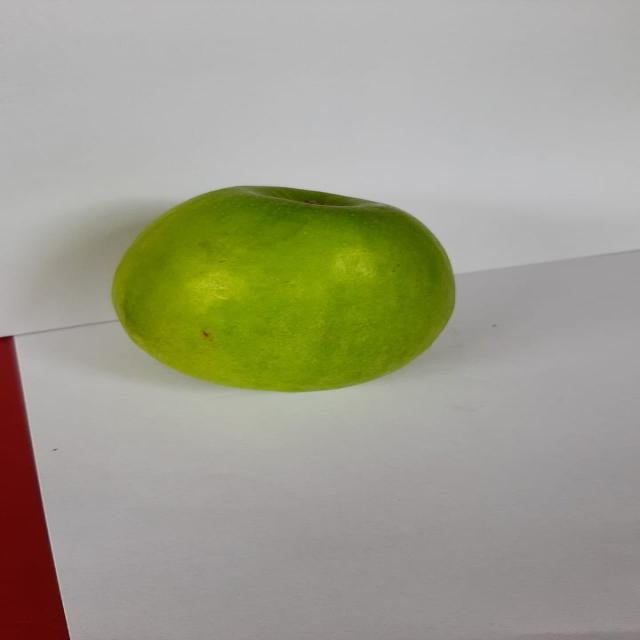50-_ripeness: (90, 172, 468, 400)
